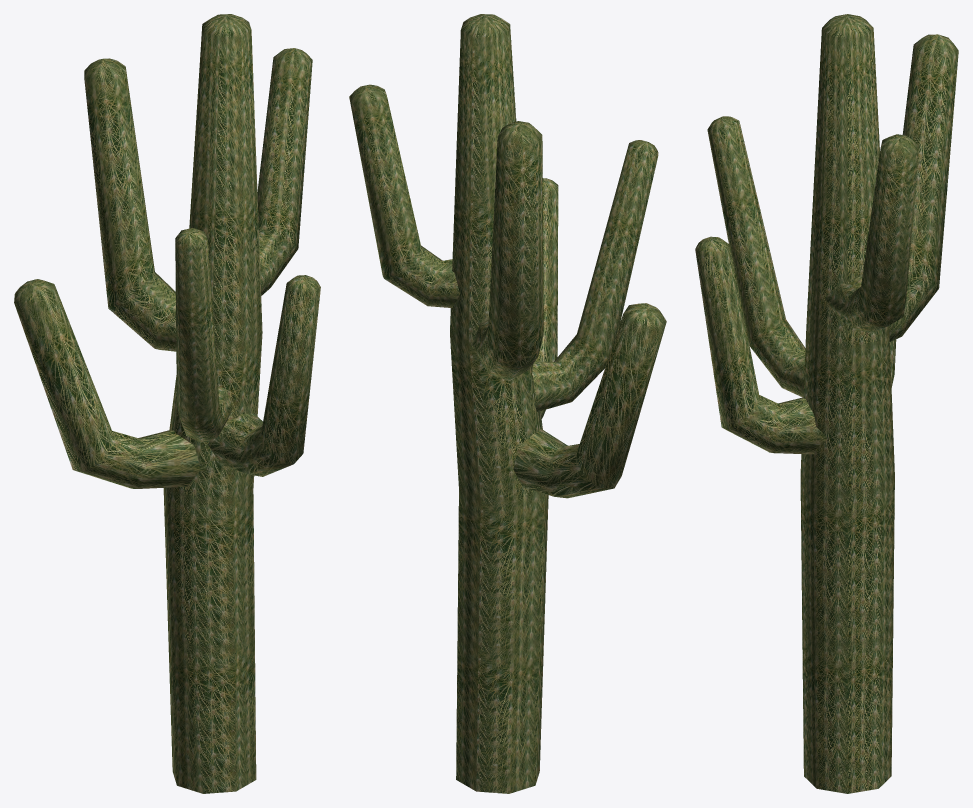
Rendered from furni_0200946.FBX.
The picture shows the model from 3 angles, left to right: view 1: azimuth 30°, elevation 25°; view 2: azimuth 150°, elevation 25°; view 3: azimuth 270°, elevation 25°; orthographic projection.
Parts seen in each view (by area): view 1: furni_0200946; view 2: furni_0200946; view 3: furni_0200946.
Boxes of the visible parts, x1=… form: furni_0200946: x1=14, y1=14, x2=320, y2=793; furni_0200946: x1=349, y1=14, x2=666, y2=793; furni_0200946: x1=695, y1=14, x2=958, y2=793.
Bounding box in the file's own units: 152 × 364 × 113.
Materials: 1 (1 with a texture image).
